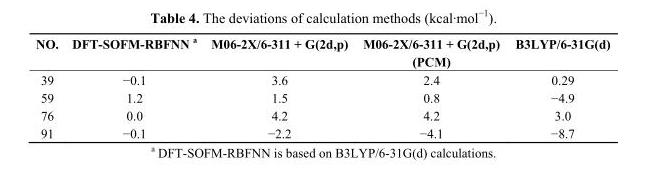table: (34, 34, 609, 140)
table column: (354, 34, 506, 140), (203, 34, 354, 140), (64, 34, 203, 140), (506, 34, 609, 140), (34, 34, 64, 140)
table column header: (34, 34, 609, 70)
table row: (34, 34, 609, 70), (34, 70, 609, 88), (34, 88, 609, 106), (34, 106, 609, 124), (34, 124, 609, 140)
